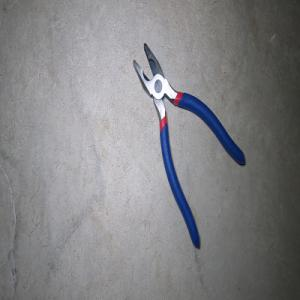Pliers: (132, 42, 245, 248)
